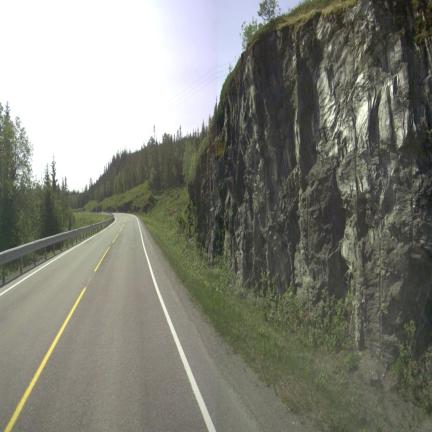Road: (0, 214, 302, 430)
